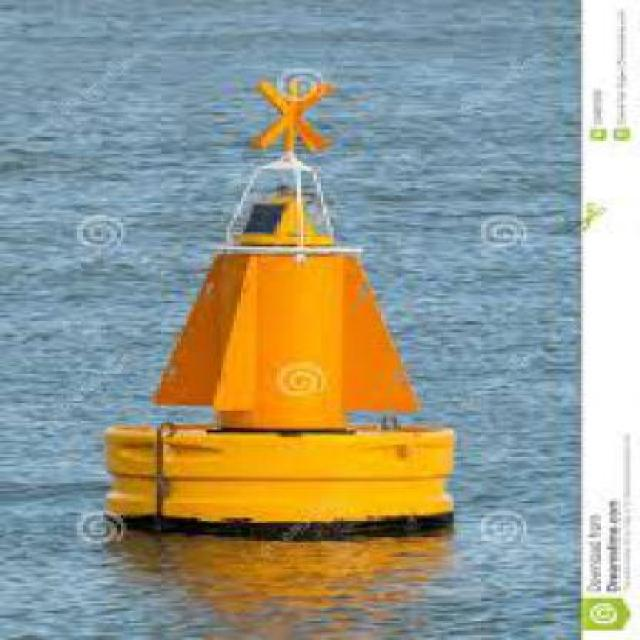buoy: (104, 74, 438, 536)
